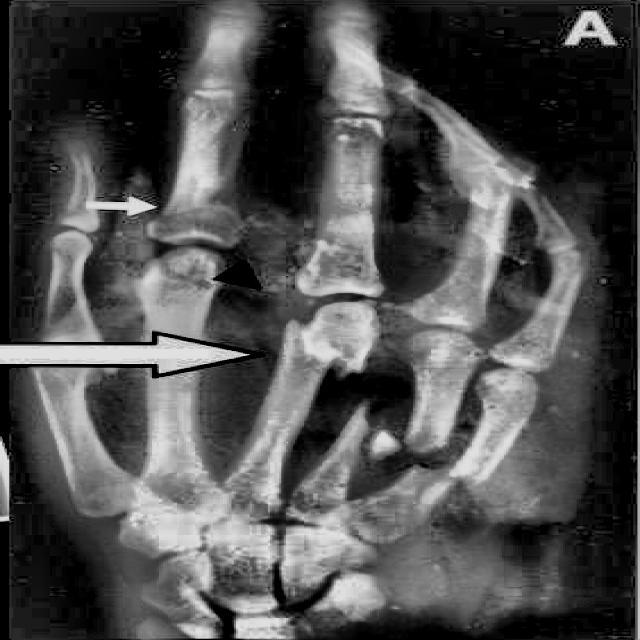fracture: (458, 154, 542, 257), (347, 395, 454, 467), (282, 314, 368, 378), (134, 252, 218, 296), (408, 459, 486, 492)
